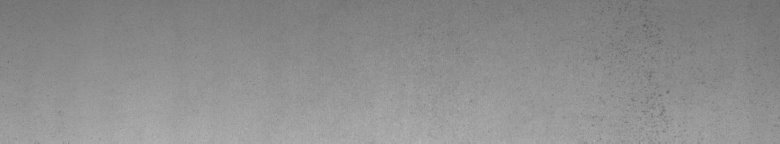ib: (616, 20, 670, 117)
